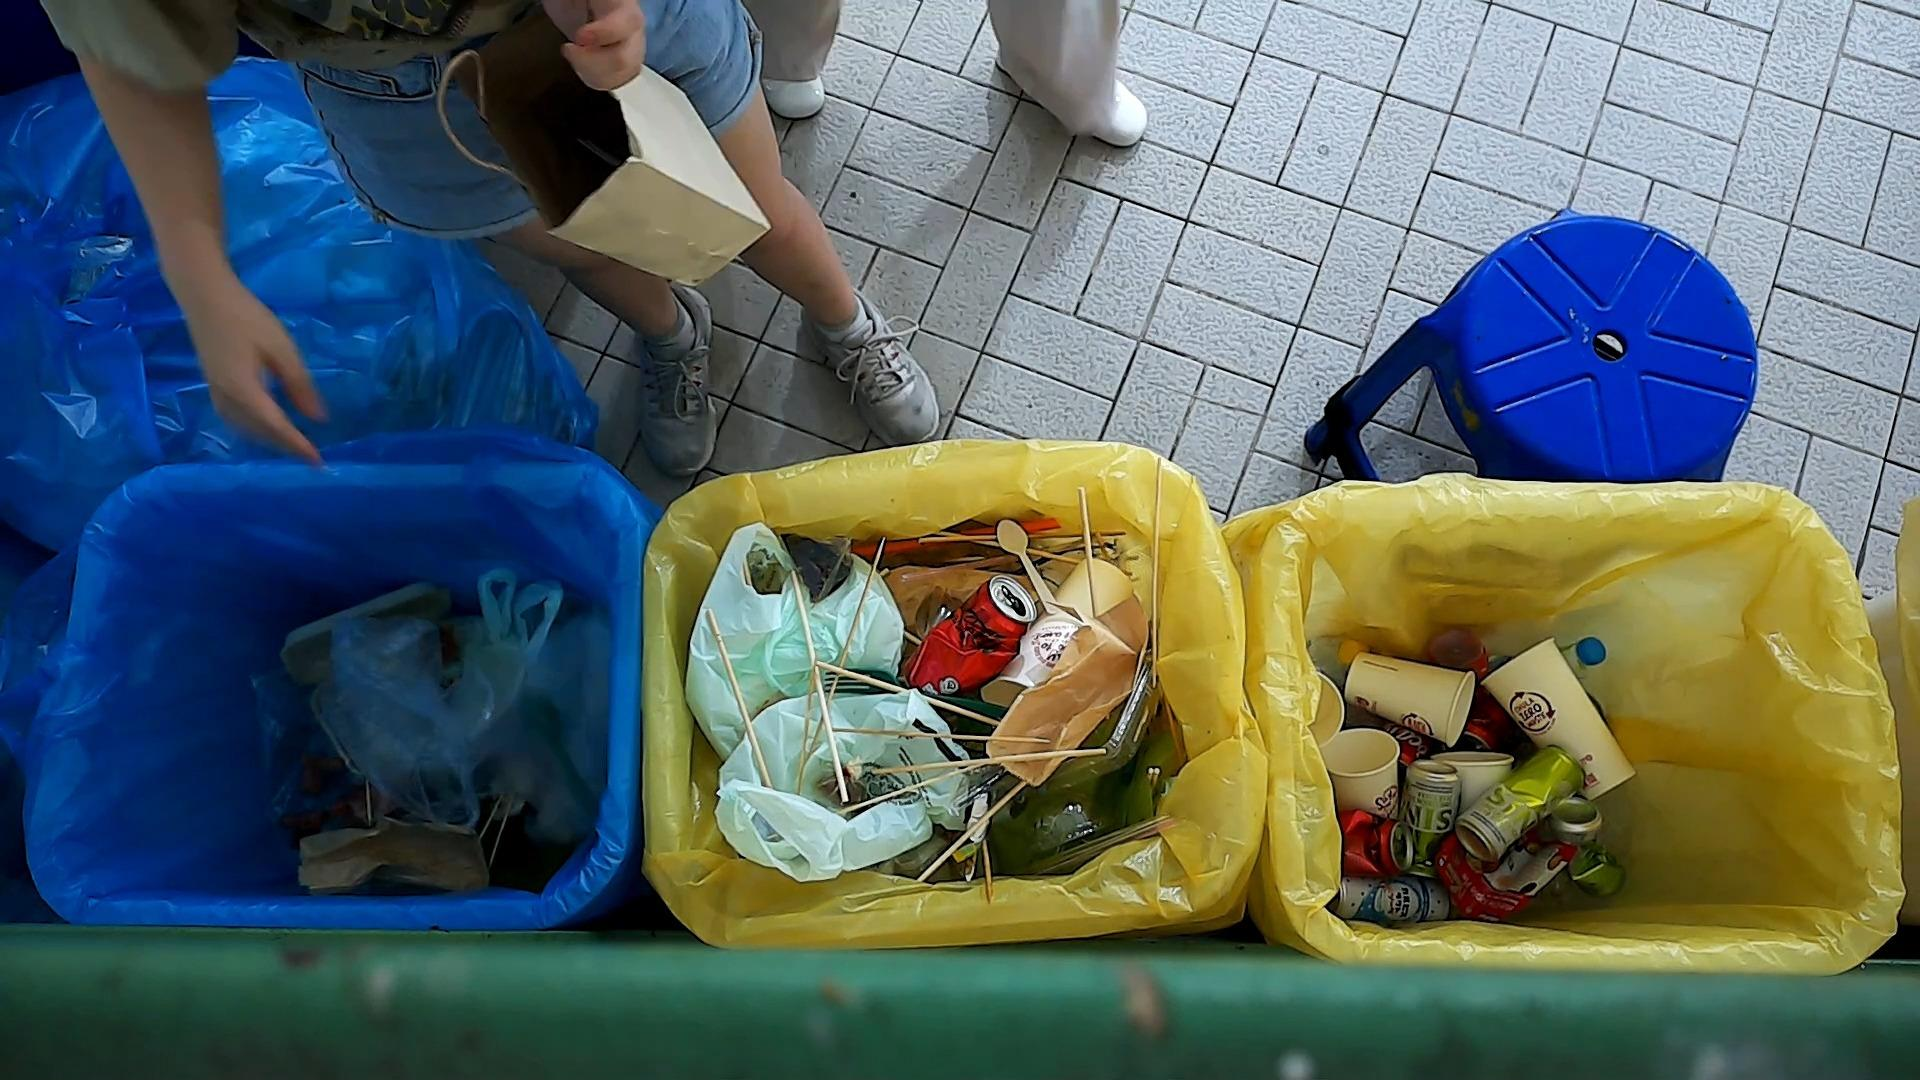can: (1451, 740, 1590, 868), (897, 574, 1040, 698), (1544, 793, 1633, 902), (1396, 753, 1462, 882), (1331, 873, 1452, 927), (1335, 804, 1419, 881)
filled plastic bag: (679, 517, 914, 760), (322, 608, 502, 843)
paper bag: (422, 18, 777, 287), (981, 589, 1151, 791), (293, 814, 496, 902), (886, 559, 1052, 644)
plastic bag: (709, 683, 982, 897), (419, 599, 617, 845)
plastic cutlery: (516, 683, 603, 824), (822, 665, 1011, 721), (994, 518, 1062, 618)
snack packaging: (1431, 823, 1580, 924)
sticks: (811, 534, 886, 757), (808, 654, 1001, 728), (790, 567, 849, 804), (702, 607, 774, 791), (913, 774, 1029, 886), (835, 762, 985, 815), (868, 748, 1109, 777), (832, 720, 1054, 750), (931, 527, 1080, 567), (915, 525, 1131, 547), (1149, 455, 1167, 690), (1075, 483, 1102, 625), (795, 655, 820, 798)
straw: (898, 553, 1023, 587)
zero waste cup: (1477, 633, 1639, 804), (1341, 646, 1480, 749), (1319, 725, 1404, 822)
